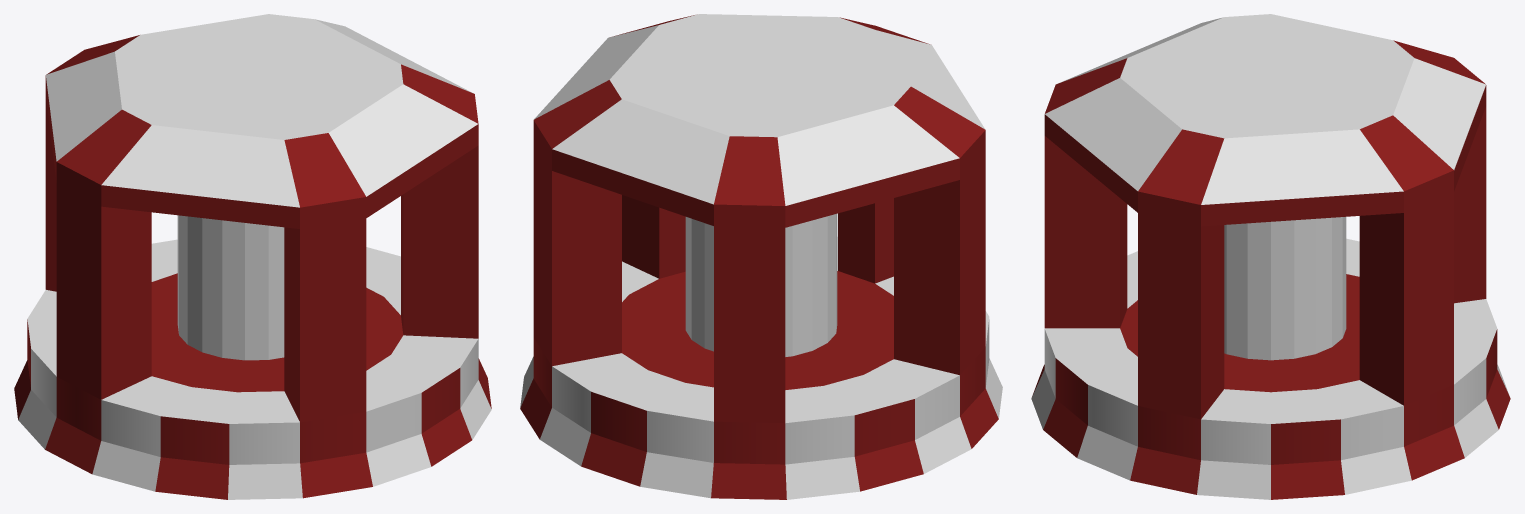
Rendered from Carousel Textured.FBX.
3 renders of one model, left to right at view 1: azimuth 30°, elevation 25°; view 2: azimuth 150°, elevation 25°; view 3: azimuth 270°, elevation 25°, orthographic.
Parts seen in each view (by area): view 1: Carousel; view 2: Carousel; view 3: Carousel.
Boxes of the visible parts, left/top/right/bottom form: Carousel: left=14, top=14, right=491, bottom=499; Carousel: left=520, top=14, right=1002, bottom=499; Carousel: left=1031, top=14, right=1510, bottom=499.
Bounding box in the file's own units: 29.95 × 22.12 × 29.95.
2 materials, 2 textured.
